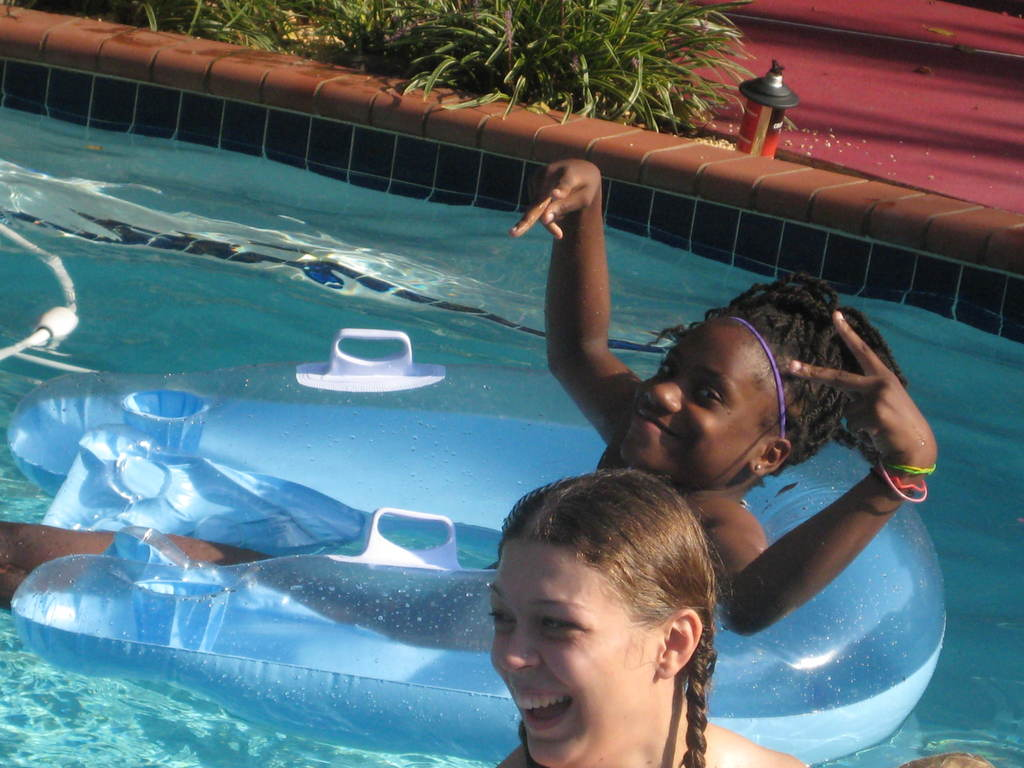Human-face: (492, 542, 657, 767), (614, 324, 765, 483)
